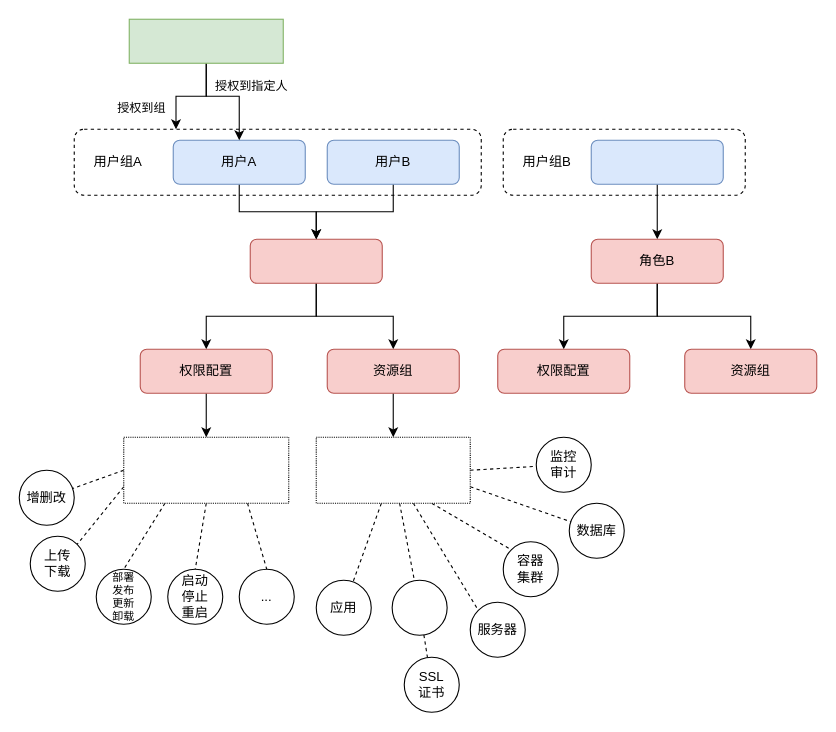
Some shapes in this 836 by 732 pixel diagram are drawn without their labels. Here are the shapes that lost their labels. From the top down, the box of each, then its label:
(128, 18, 283, 63): 密钥信息 （授权使用）
(590, 139, 723, 184): 用户C
(249, 238, 382, 283): 角色A
(123, 436, 289, 503): 功能权限： 哪些能用和不能用
(315, 436, 470, 503): 资源权限： 哪些可见和不可见
(391, 579, 447, 635): 应用 网关
